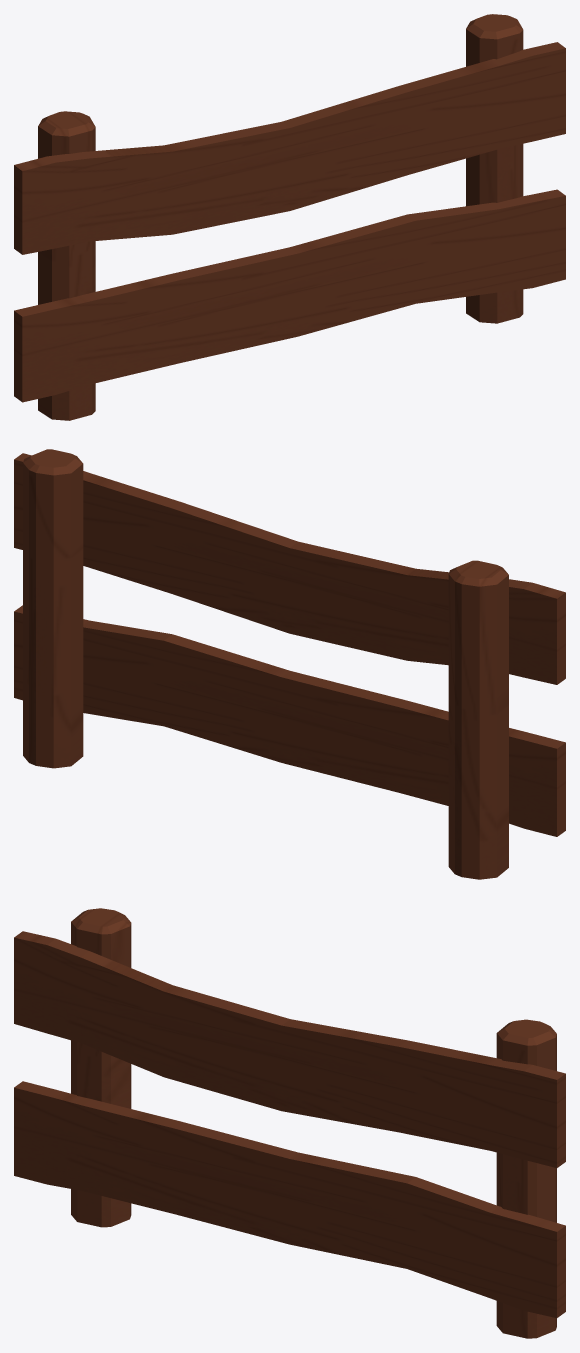
File: FenceShort.fbx
The picture shows the model from 3 angles, top to bottom: view 1: azimuth 30°, elevation 25°; view 2: azimuth 150°, elevation 25°; view 3: azimuth 330°, elevation 25°; orthographic projection. The views are drawn at different scales.
Visible parts, largest first — view 1: FenceShort; view 2: FenceShort; view 3: FenceShort.
Boxes of the visible parts, box(x1,y1,x2,y2) form: FenceShort: box(14, 14, 565, 420); FenceShort: box(14, 449, 565, 879); FenceShort: box(14, 908, 565, 1338).
Size of the model in its own units: 1.57 by 0.8104 by 0.2138.
1 material, 1 textured.
